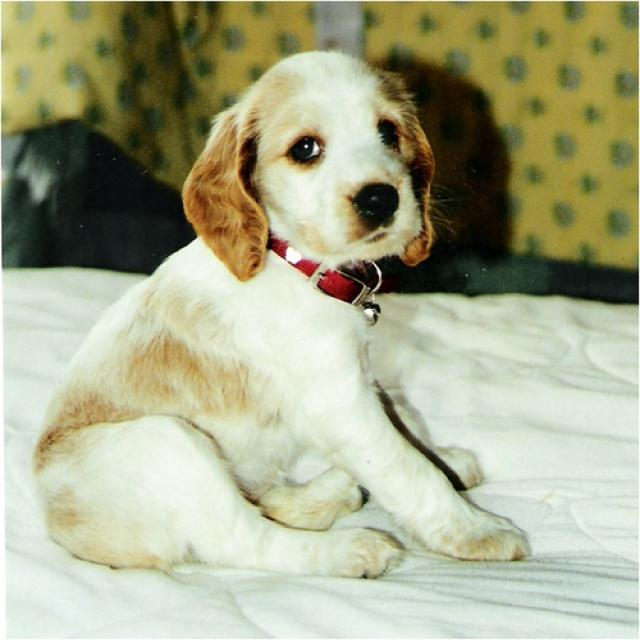dog-english_cocker_spaniel: (17, 41, 540, 587)
